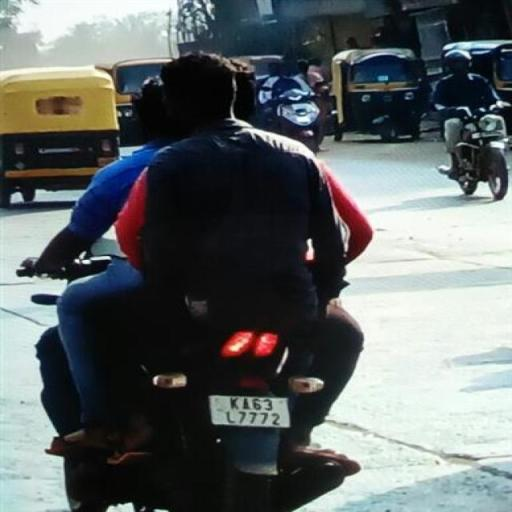tripple riding: (7, 42, 375, 346)
